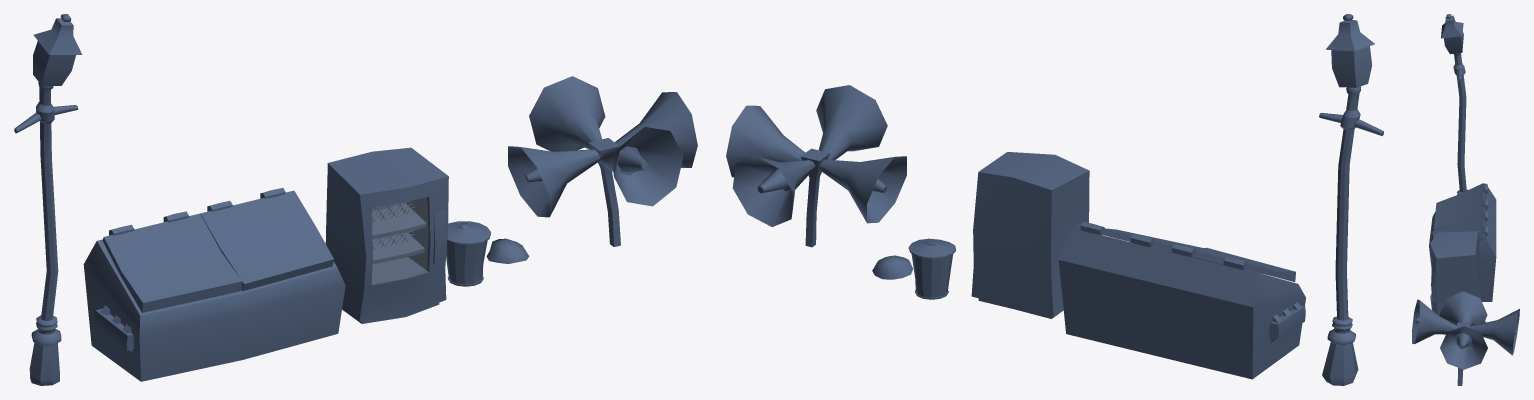
File: StreetProps.fbx
The picture shows the model from 3 angles, left to right: view 1: azimuth 30°, elevation 25°; view 2: azimuth 150°, elevation 25°; view 3: azimuth 270°, elevation 25°; orthographic projection. The views are drawn at different scales.
Parts seen in each view (by area): view 1: Drumpster, Machine, LoudSpeaker, Dumpsterlid, Dumpsterlid1, Streetlamp, Glass1, TrashCan, TrashcanLid, Garbage; view 2: Drumpster, Machine, LoudSpeaker, Streetlamp, Dumpsterlid, TrashCan, Dumpsterlid1, TrashcanLid, Garbage; view 3: LoudSpeaker, Machine, Streetlamp, Drumpster, Dumpsterlid, Dumpsterlid1.
Part boxes in pixels (x1,y1,x2,y2): Drumpster: [83, 239, 345, 381]; Machine: [325, 147, 448, 323]; LoudSpeaker: [508, 76, 697, 246]; Dumpsterlid: [102, 211, 242, 312]; Dumpsterlid1: [200, 188, 333, 291]; Streetlamp: [14, 14, 82, 385]; Glass1: [372, 197, 428, 283]; TrashCan: [446, 240, 487, 286]; TrashcanLid: [447, 221, 490, 245]; Garbage: [486, 238, 529, 263]; Drumpster: [1058, 228, 1305, 379]; Machine: [971, 152, 1089, 318]; LoudSpeaker: [726, 85, 906, 247]; Streetlamp: [1319, 14, 1383, 385]; Dumpsterlid: [1163, 244, 1295, 281]; TrashCan: [911, 254, 952, 299]; Dumpsterlid1: [1074, 222, 1202, 251]; TrashcanLid: [908, 238, 955, 259]; Garbage: [872, 255, 912, 279]; LoudSpeaker: [1412, 291, 1519, 385]; Machine: [1430, 231, 1480, 315]; Streetlamp: [1441, 14, 1467, 194]; Drumpster: [1429, 188, 1496, 301]; Dumpsterlid: [1433, 183, 1488, 230]; Dumpsterlid1: [1432, 210, 1488, 241].
Size of the model in its own units: 14.25 by 7.79 by 3.48.
